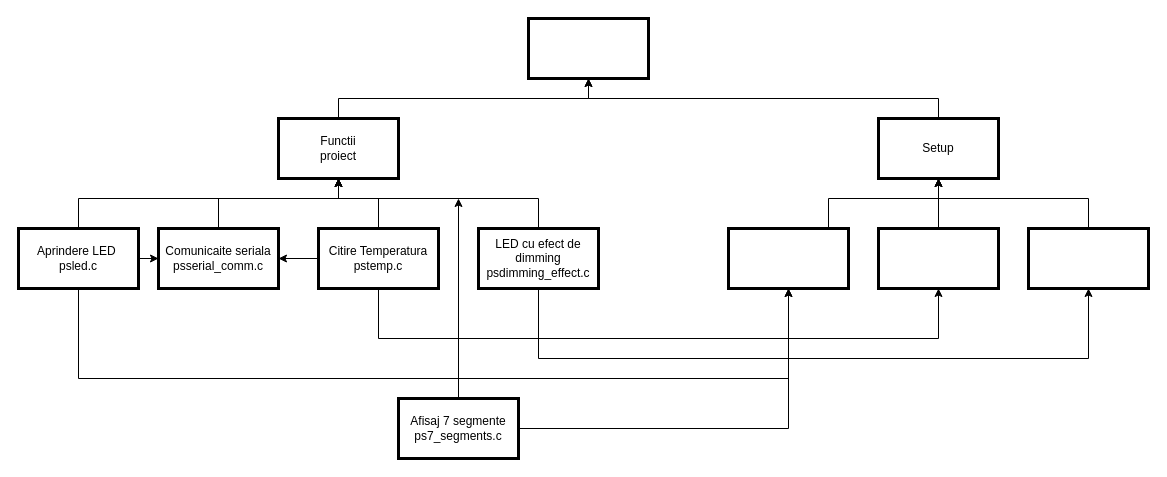
Some shapes in this 1167 by 477 pixel diagram are drawn without their labels. Here are the shapes that lost their labels. From the top down, the box of each, then its label:
(526, 16, 650, 80): Main
(726, 226, 850, 290): Timer pstimer.c
(876, 226, 1000, 290): CAN pscan.c
(1026, 226, 1150, 290): PWM pspwm.c
